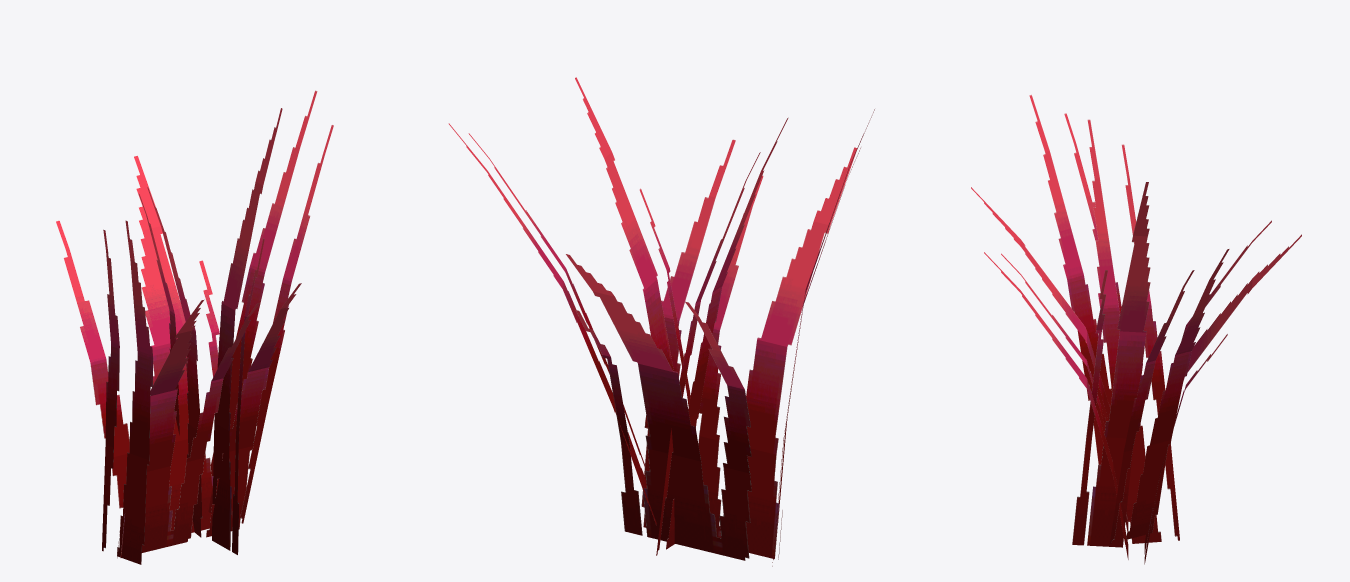
The model's file is Grasslight.obj.
3 renders of one model, left to right at view 1: azimuth 30°, elevation 25°; view 2: azimuth 150°, elevation 25°; view 3: azimuth 270°, elevation 25°, orthographic. The views are drawn at different scales.
Parts seen in each view (by area): view 1: Plane.002; view 2: Plane.002; view 3: Plane.002.
Boxes of the visible parts, <box> form: Plane.002: <box>56,90,333,564</box>; Plane.002: <box>448,77,874,566</box>; Plane.002: <box>971,94,1301,564</box>.
Size of the model in its own units: 3.42 by 3.99 by 3.18.
